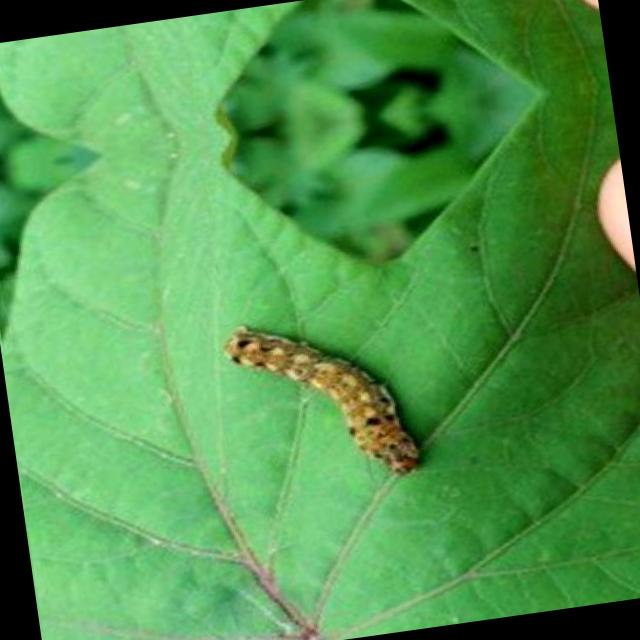Armyworm: (154, 288, 457, 509)
